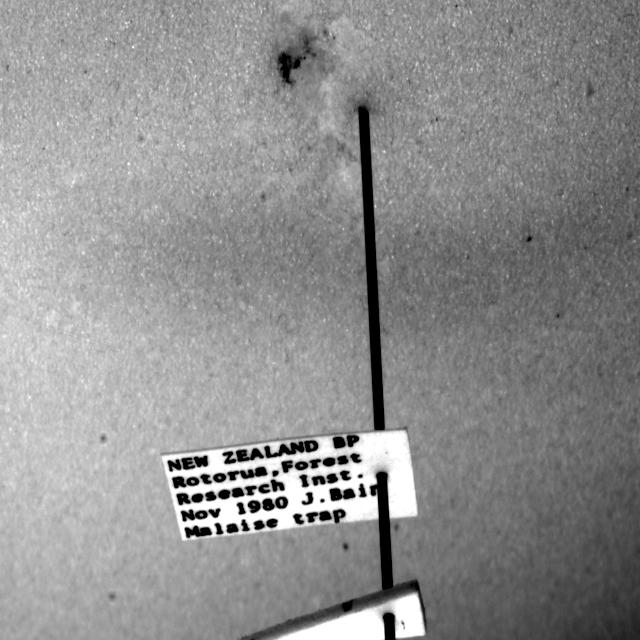typed_label: (162, 429, 418, 540)
